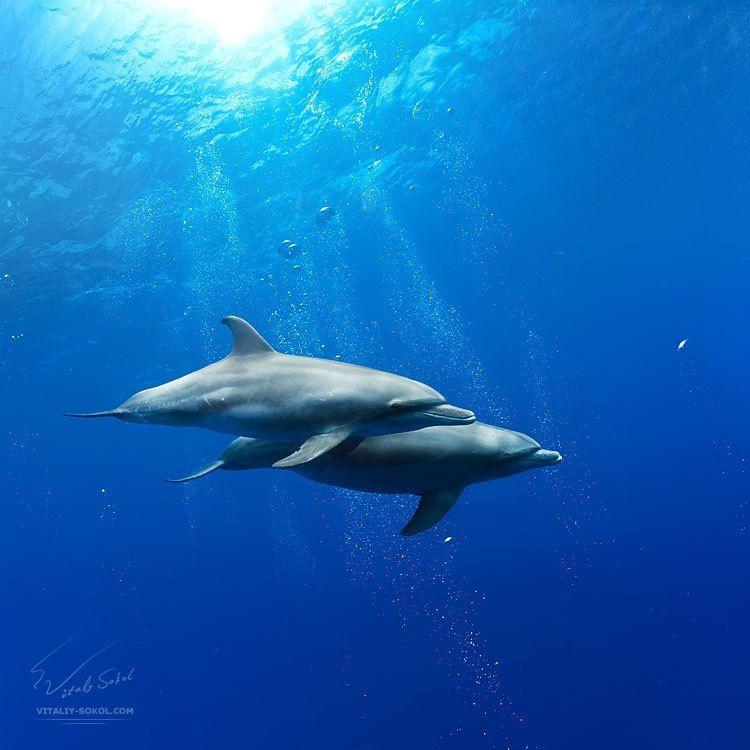dolphin: (42, 305, 518, 458), (160, 414, 573, 519)
